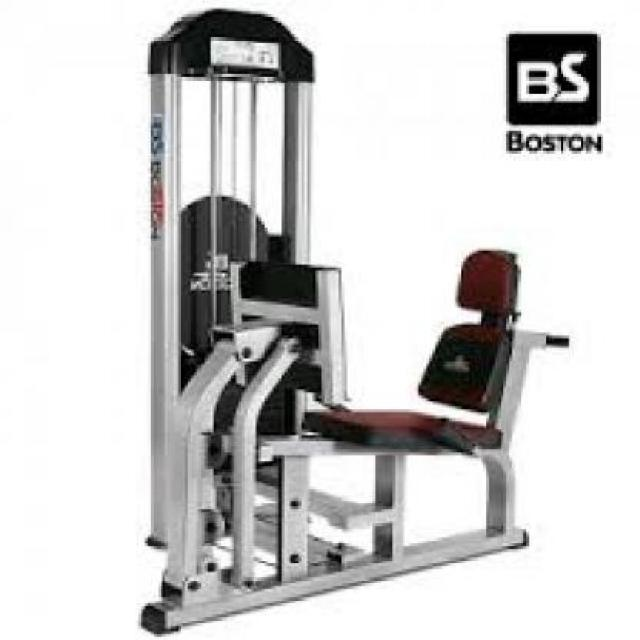leg press: (115, 4, 576, 640)
